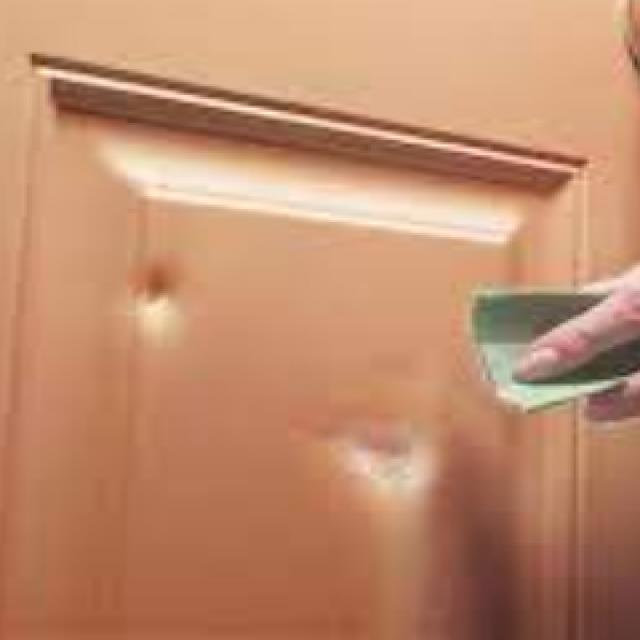dents: (118, 227, 238, 381), (326, 402, 441, 514)
